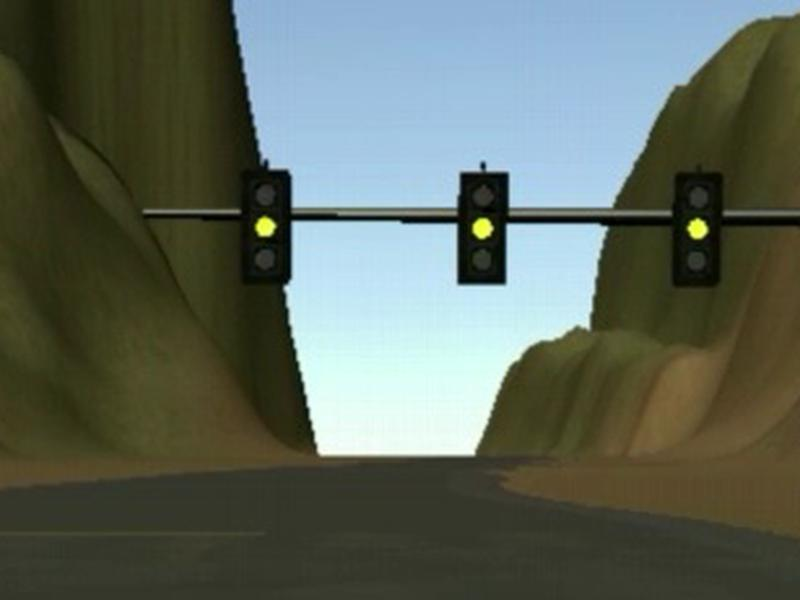Yellow: (455, 171, 509, 285), (240, 168, 292, 286), (673, 172, 724, 288)
